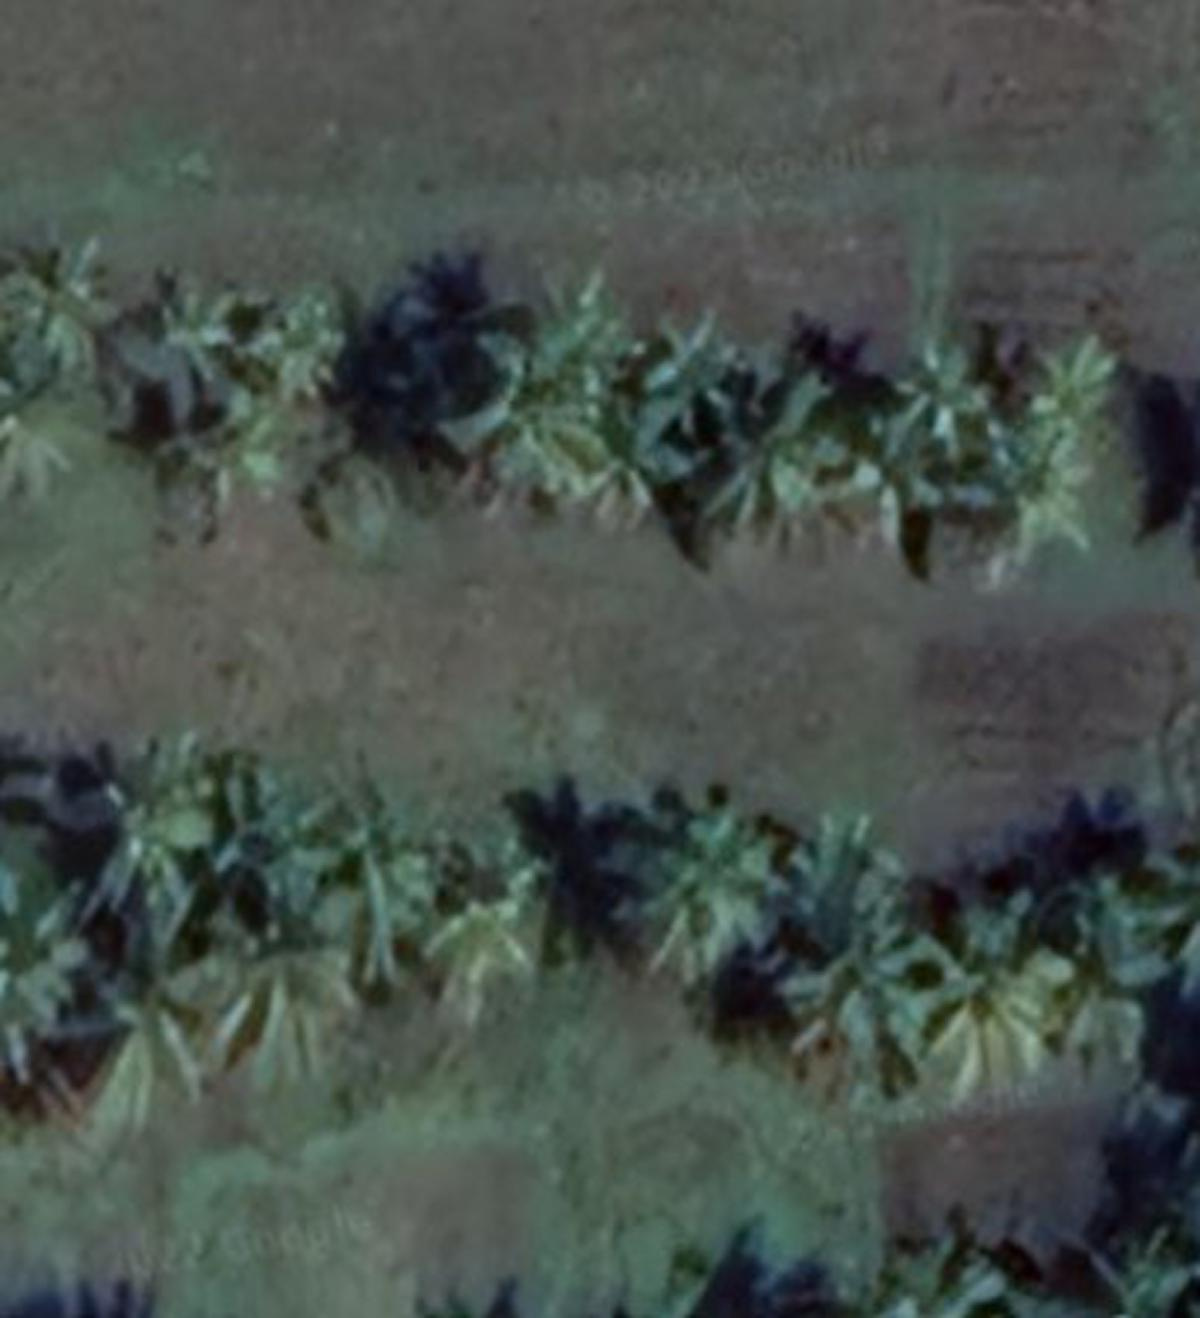coconut: (47, 940, 209, 1117), (784, 928, 949, 1099), (200, 910, 365, 1073), (710, 356, 849, 536), (978, 398, 1108, 572), (628, 816, 779, 964), (73, 754, 220, 896), (919, 946, 1070, 1081), (2, 235, 132, 386), (227, 290, 377, 418), (501, 282, 645, 412), (775, 796, 911, 931), (418, 866, 545, 1008), (645, 315, 779, 427), (1020, 344, 1141, 457), (136, 277, 227, 383), (890, 339, 981, 433)
